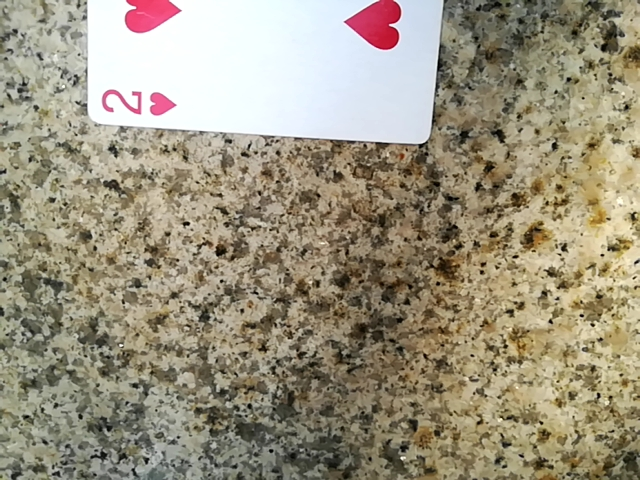hx 2: (80, 0, 447, 144)
